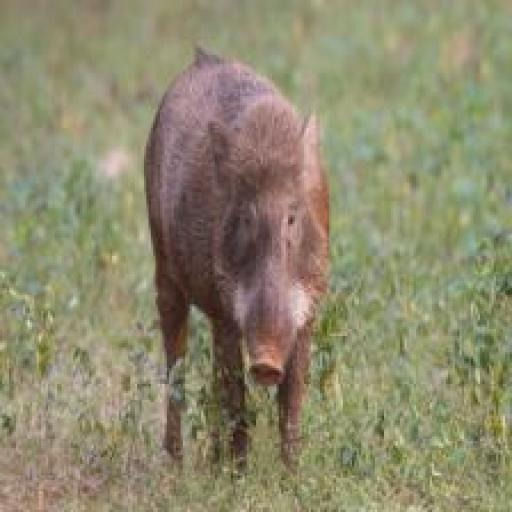Pig: (137, 41, 340, 497)
